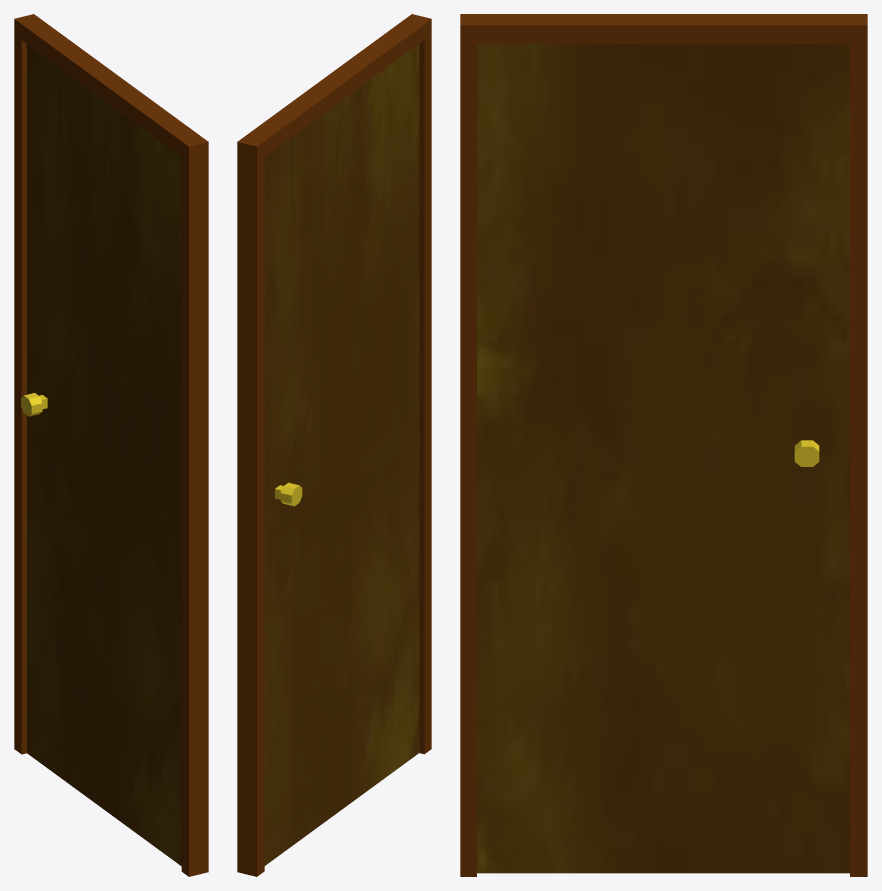
Rendered from basicTruedoor.glb.
The picture shows the model from 3 angles, left to right: view 1: azimuth 30°, elevation 25°; view 2: azimuth 150°, elevation 25°; view 3: azimuth 270°, elevation 25°; orthographic projection. The views are drawn at different scales.
Parts seen in each view (by area): view 1: Cube, Cube.003; view 2: Cube, Cube.003; view 3: Cube.
Part boxes in pixels (x1,y1,x2,y2): Cube: (14, 14, 208, 876); Cube.003: (21, 393, 42, 416); Cube: (237, 14, 431, 876); Cube.003: (280, 482, 302, 506); Cube: (460, 14, 867, 876).
Bounding box in the file's own units: 0.1469 × 2.31 × 0.9998.
Materials: 3 (2 with a texture image).
